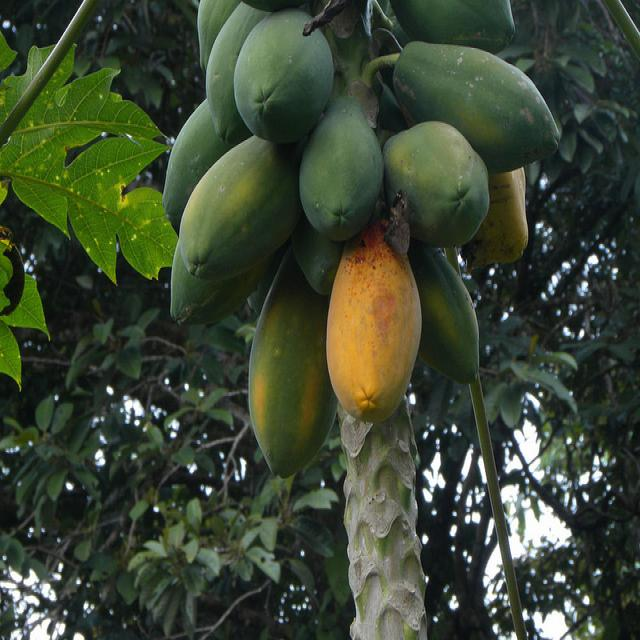Pepaya rippen: (229, 284, 319, 487), (327, 236, 421, 416), (179, 148, 292, 271)
Pepaya unrippen: (387, 28, 566, 159), (225, 11, 339, 128), (306, 92, 380, 232)
